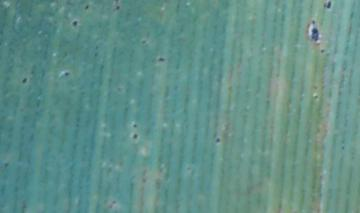tarspot: (309, 19, 320, 41), (131, 120, 140, 130), (324, 1, 334, 10), (20, 76, 29, 85), (157, 55, 166, 64), (131, 131, 139, 141), (1, 161, 11, 169), (61, 71, 73, 77), (70, 19, 79, 27), (83, 3, 91, 11), (214, 136, 221, 145), (114, 4, 122, 11), (110, 198, 118, 205), (139, 38, 148, 44), (106, 204, 114, 210), (93, 51, 99, 58), (312, 94, 320, 99), (319, 48, 326, 53), (114, 1, 120, 5)
